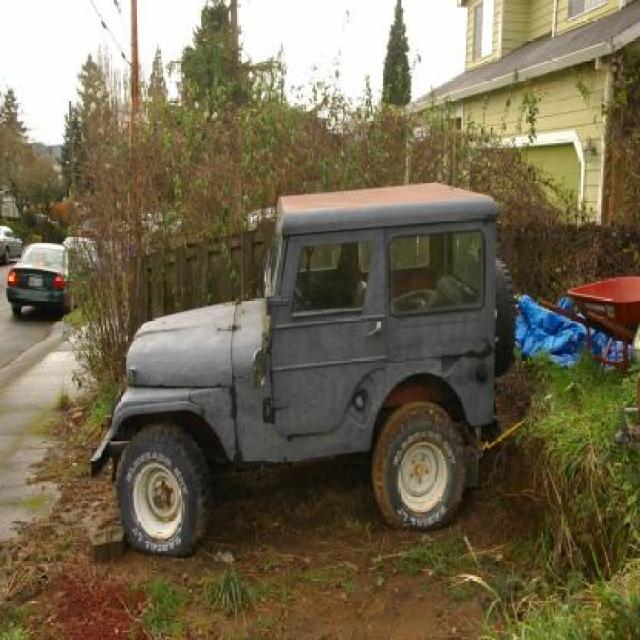Jeep: (90, 184, 526, 570)
